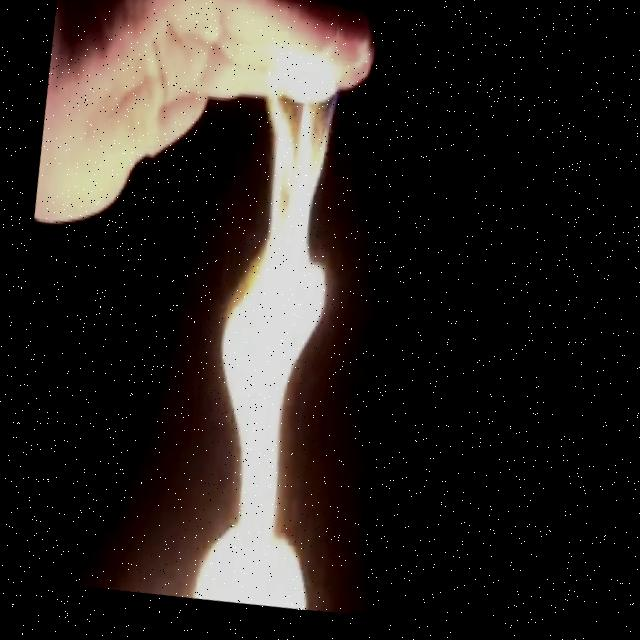Fire: (133, 52, 401, 624)
